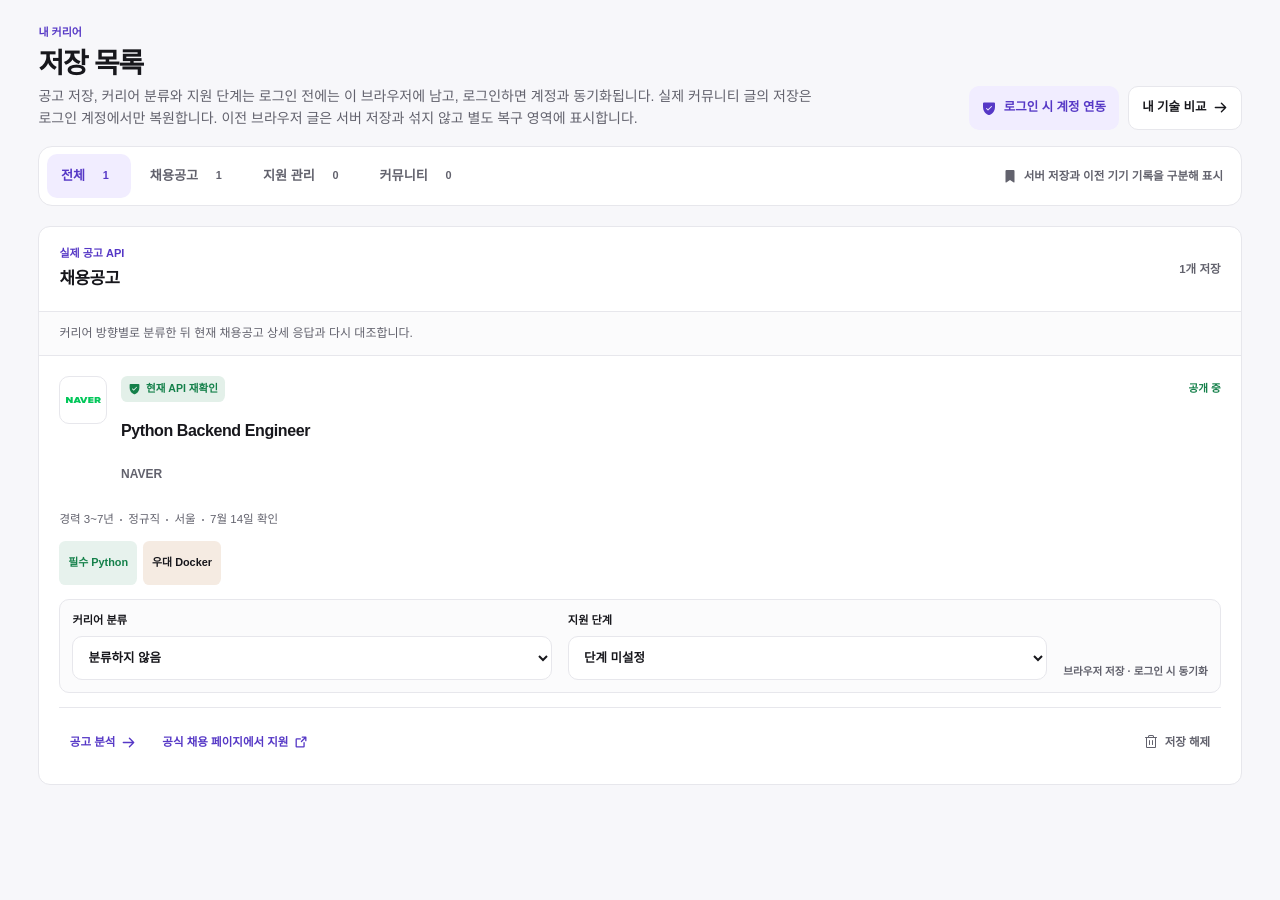
Scenario: SavedLibrary › switches result scope without reviving old starter evidence
The width and height of the screenshot is (1280, 900).
Expected: the element "Python Backend Engineer" is shown, 39,356 -> 1241,784
Click the tab "커뮤니티 0" at [420, 176], box 365,154 -> 474,198
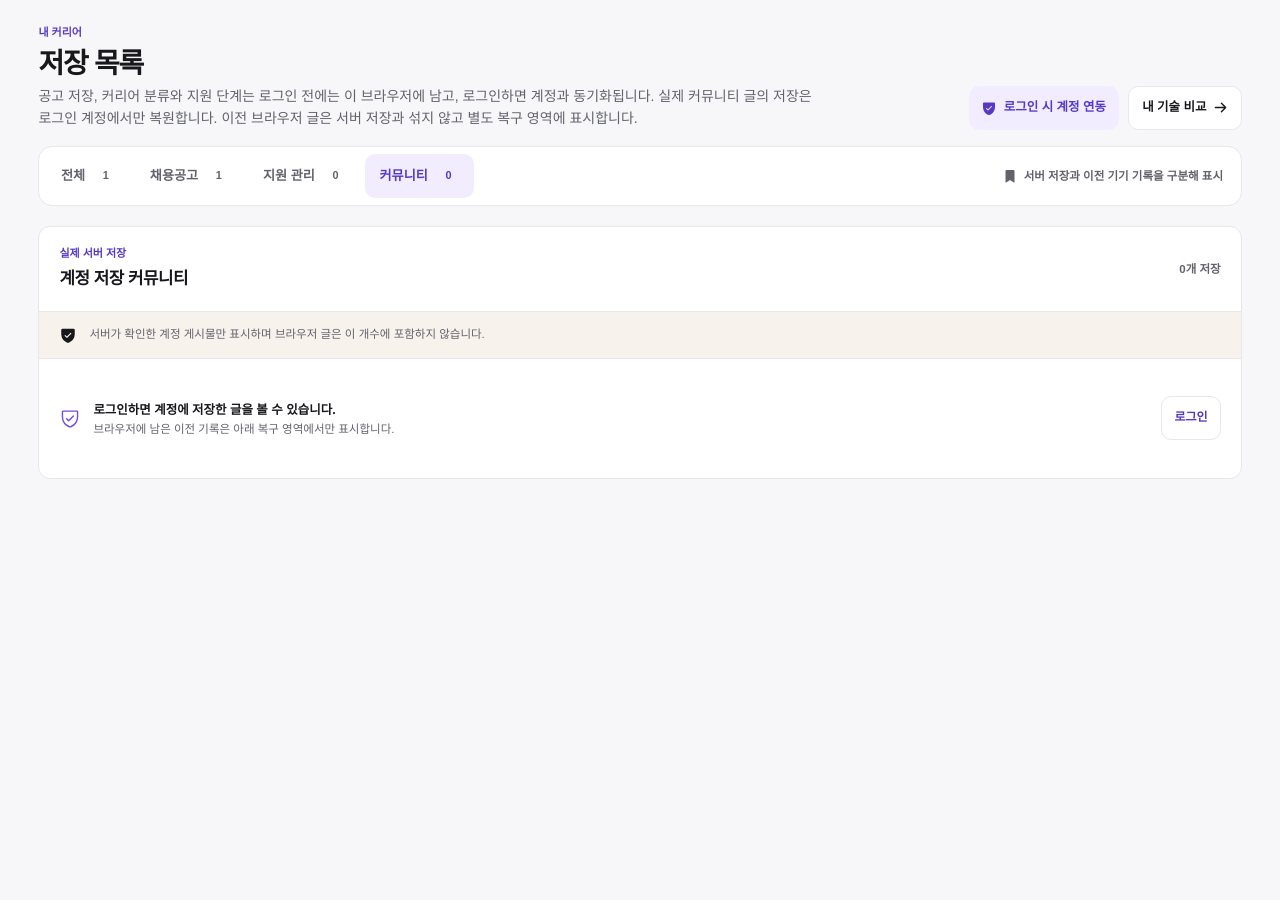
Expected: the link "Python Backend Engineer" is gone
Expected: the text "로그인하면 계정에 저장한 글을 볼 수 있습니다." is shown, 93,403 -> 336,417
